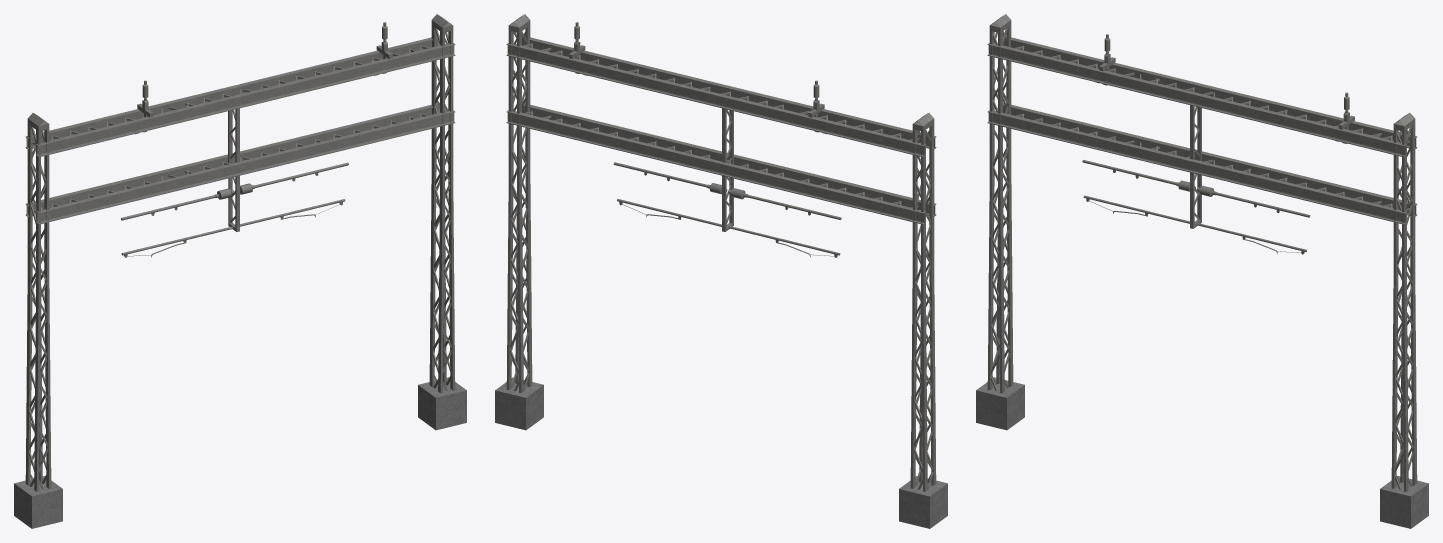
Rendered from Gantry-C.fbx.
3 views of the same model, side by side, from view 1: azimuth 30°, elevation 25°; view 2: azimuth 150°, elevation 25°; view 3: azimuth 330°, elevation 25° (orthographic).
Visible parts, largest first — view 1: Gantry-C; view 2: Gantry-C; view 3: Gantry-C.
Boxes of the visible parts, x1,y1,x2,y2 form: Gantry-C: [14, 14, 466, 528]; Gantry-C: [495, 14, 947, 528]; Gantry-C: [976, 14, 1428, 528].
Bounding box in the file's own units: 11.2 × 10.13 × 0.8.
